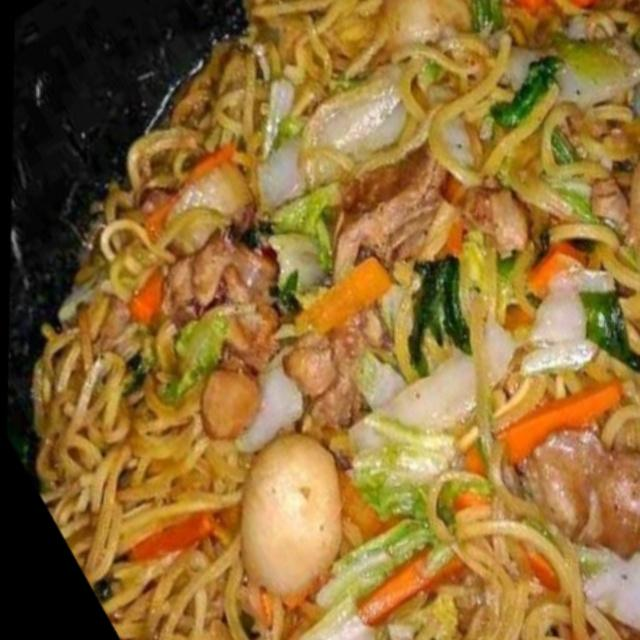pancit bihon: (28, 0, 639, 639)
